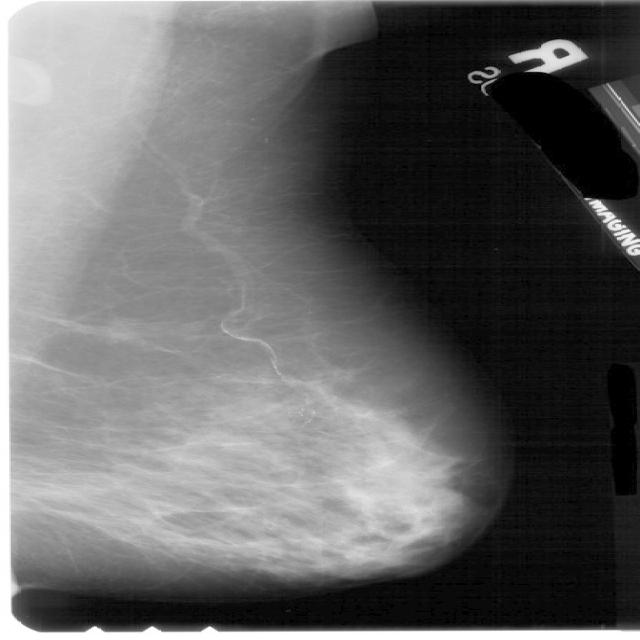tumour: (77, 319, 134, 341)
